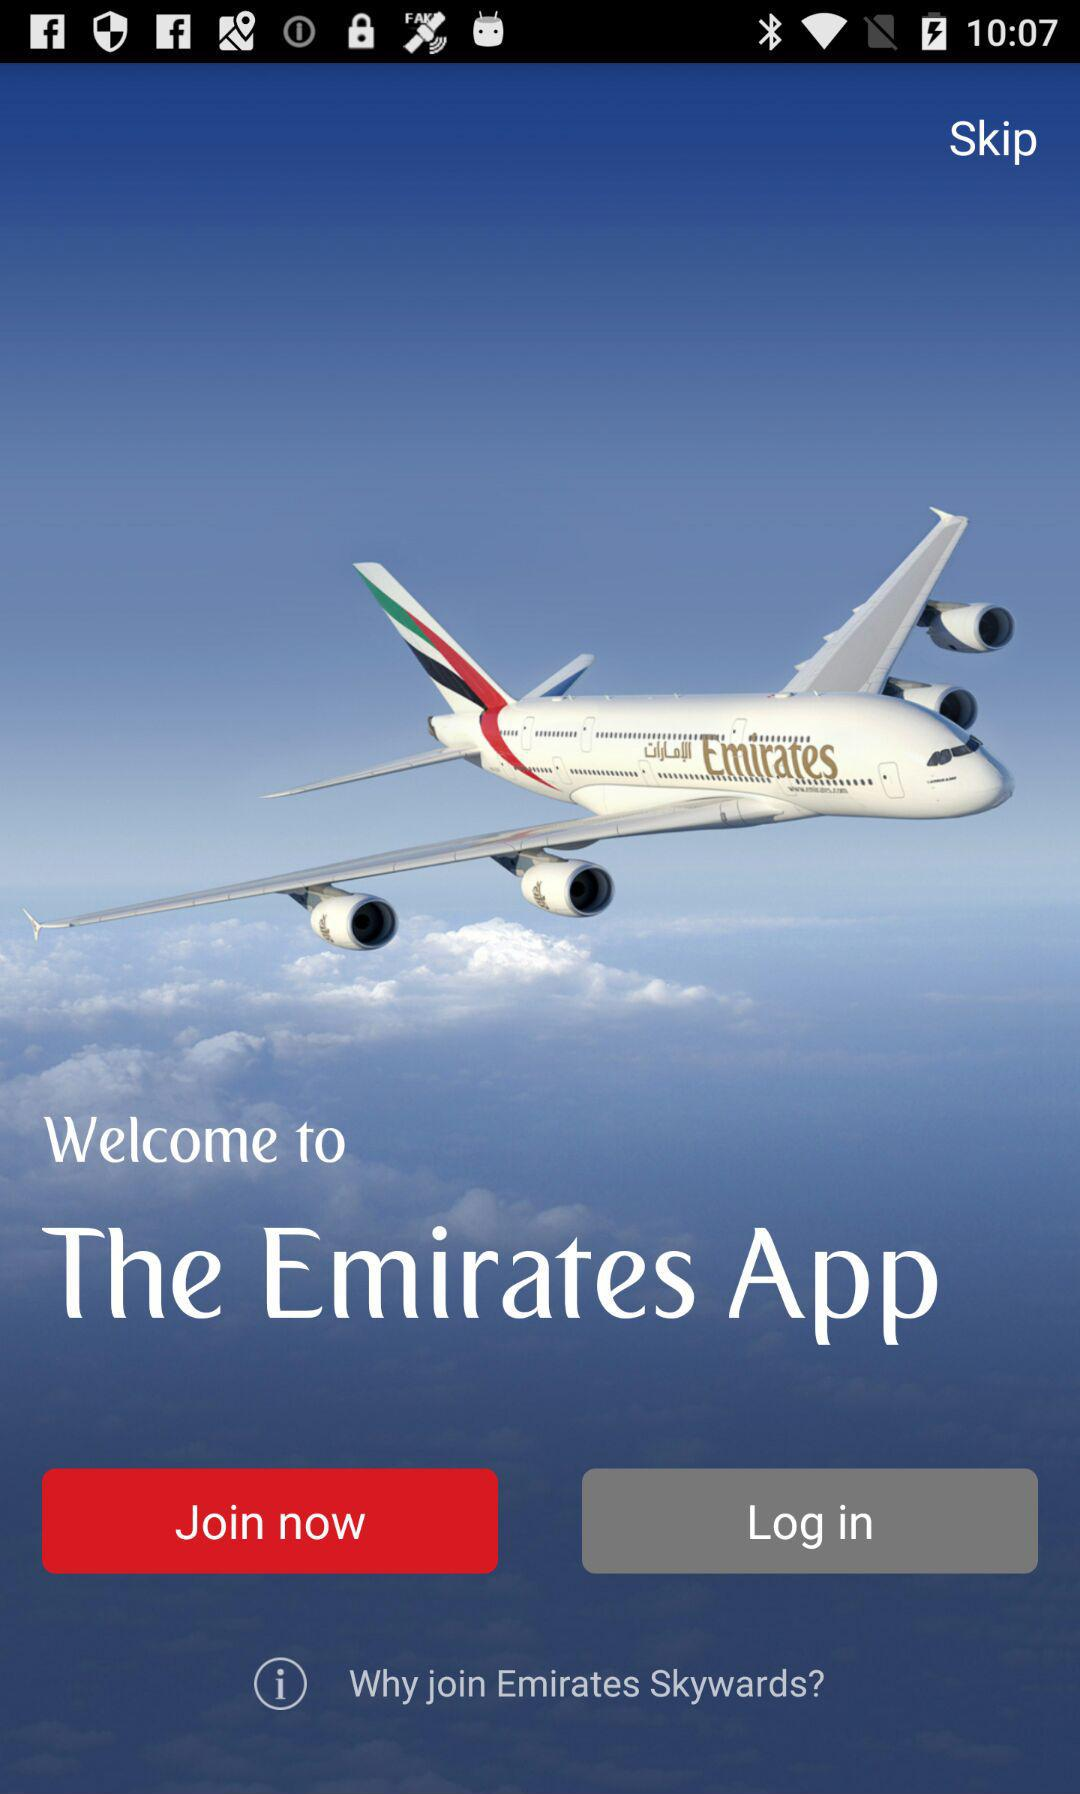BackgroundImage: (1, 64, 1080, 1794)
Icon: (254, 1656, 309, 1711)
Text: (41, 1225, 939, 1348), (348, 1668, 825, 1707), (44, 1115, 347, 1165), (949, 118, 1038, 168)
TextButton: (582, 1469, 1039, 1575), (44, 1469, 498, 1574)
UpperTaskBar: (1, 1, 1080, 64)
